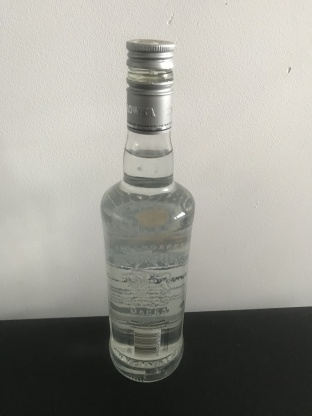nakretka: (124, 37, 176, 135)
